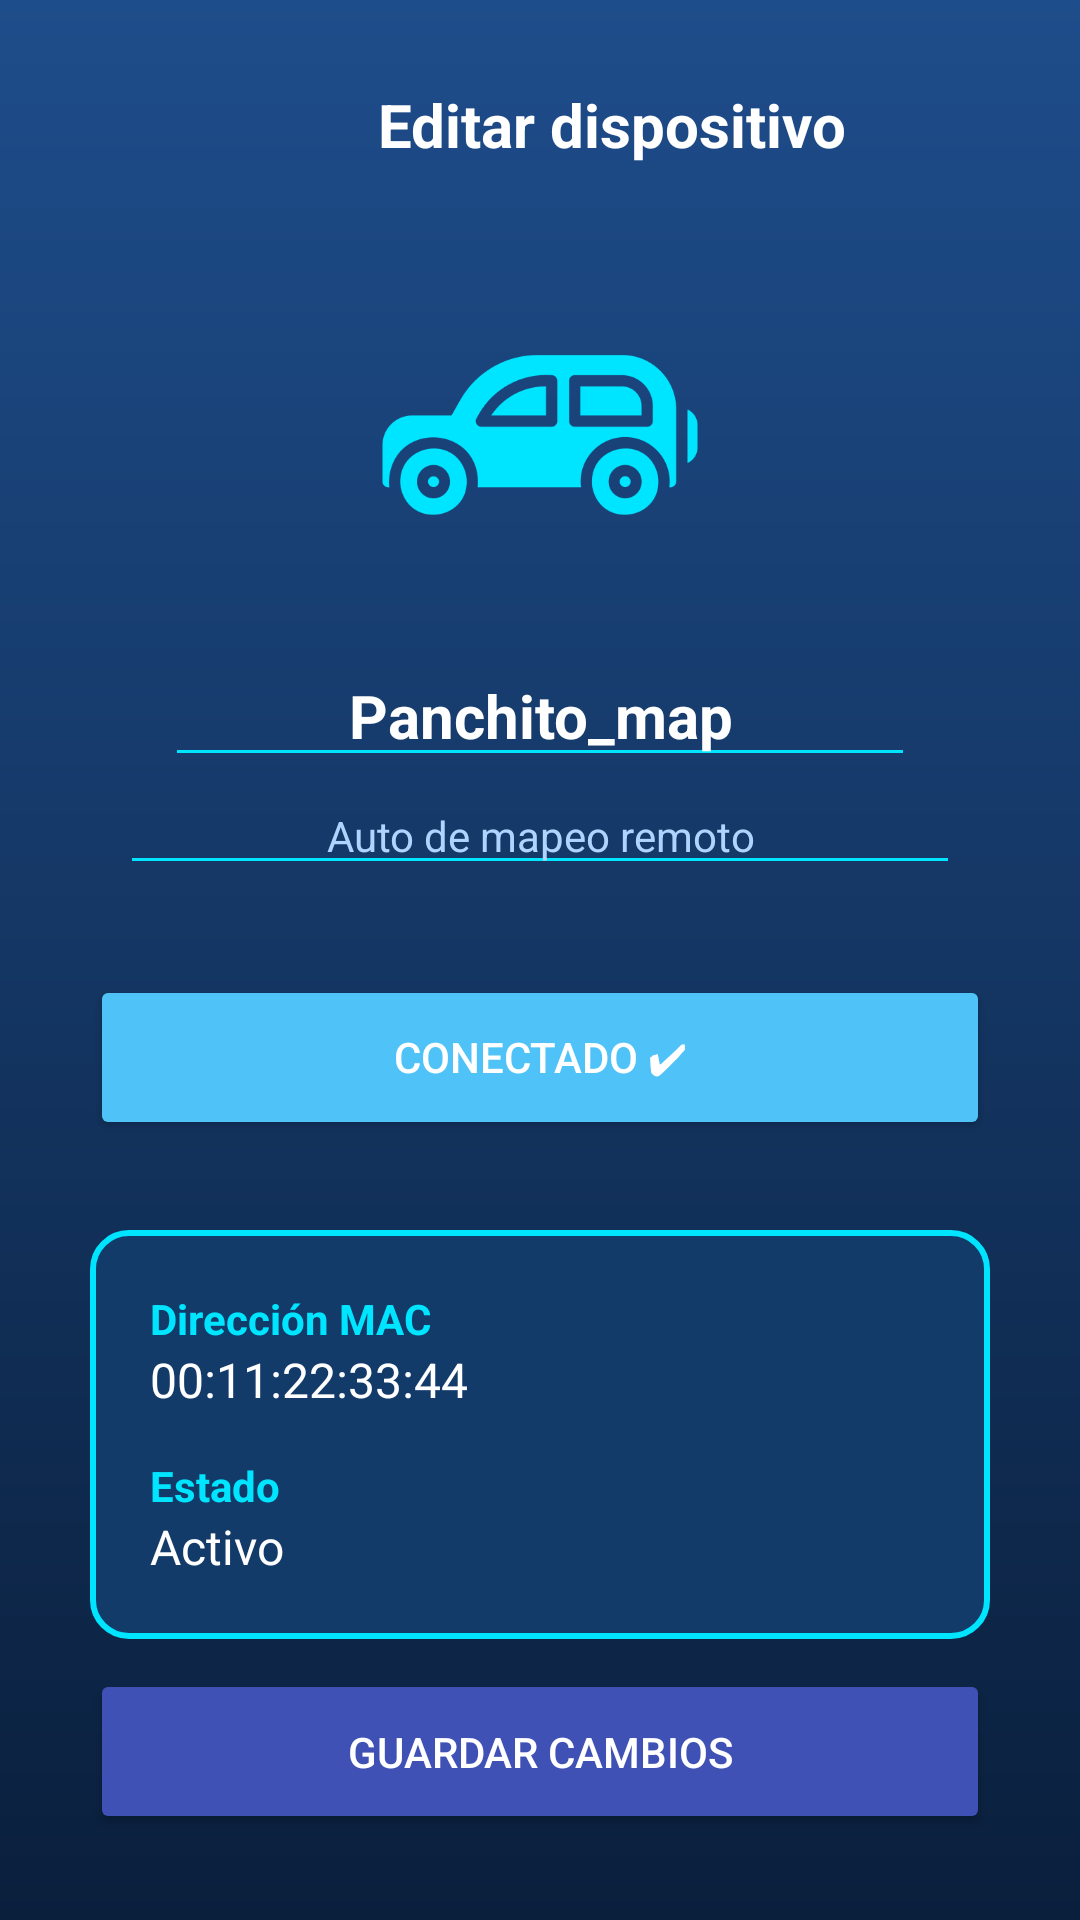

Screen size 1080×1920. Icon name, then its box in pixels as (x1, y1, x2, y2):
coche: (382, 355, 698, 515)
